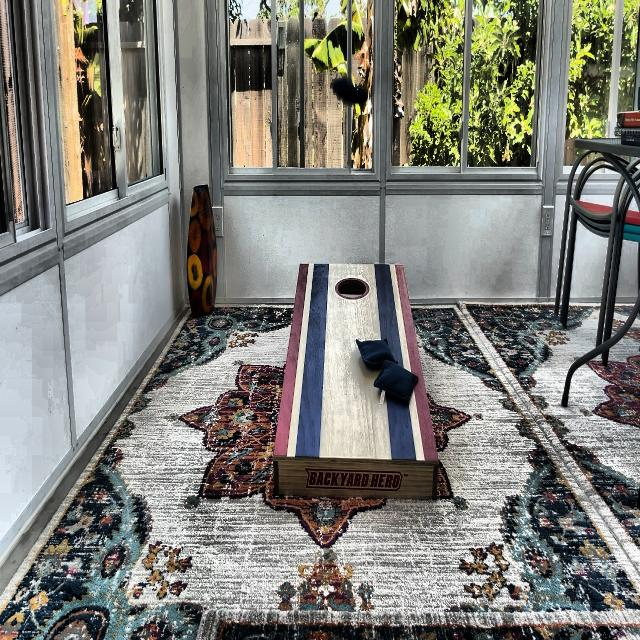blue-bean-bag: (373, 363, 419, 405), (356, 338, 397, 366), (333, 76, 367, 105)
board: (293, 264, 412, 460)
hole: (334, 275, 370, 301)
